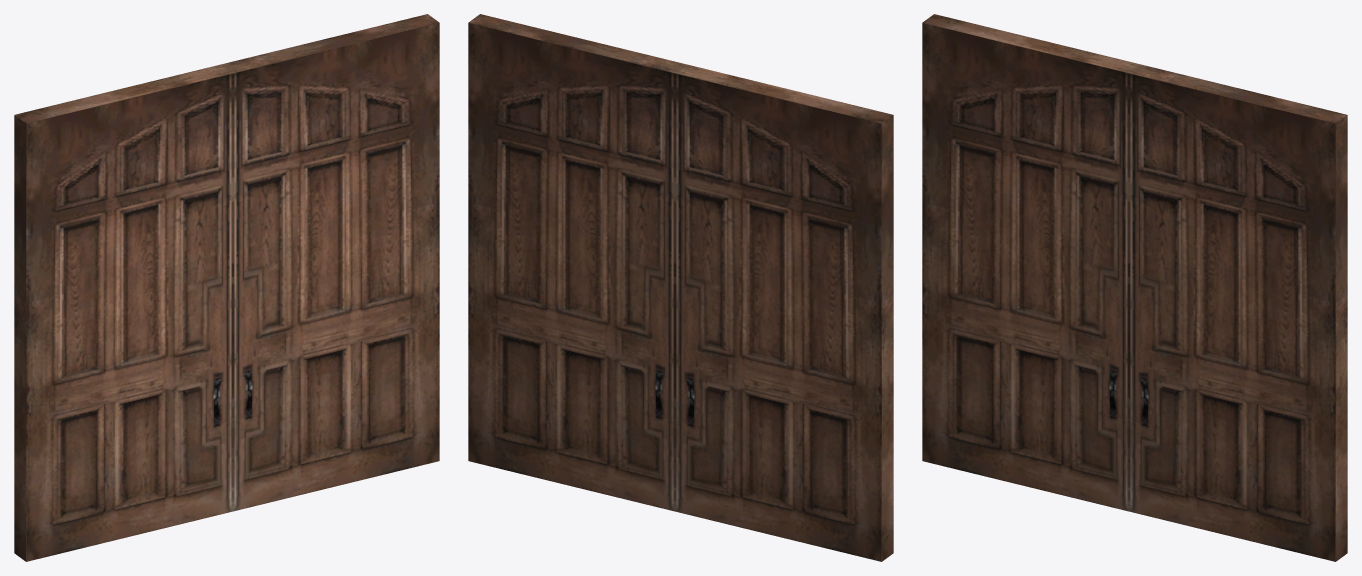
Rendered from door_nboo_filler_s04.fbx.
The picture shows the model from 3 angles, left to right: view 1: azimuth 30°, elevation 25°; view 2: azimuth 150°, elevation 25°; view 3: azimuth 330°, elevation 25°; orthographic projection.
Visible parts, largest first — view 1: mesh_node; view 2: mesh_node; view 3: mesh_node.
Boxes of the visible parts, x1,y1,x2,y2 form: mesh_node: (14,14,439,561); mesh_node: (468,14,893,561); mesh_node: (922,14,1347,561).
Bounding box in the file's own units: 2.82 × 2.86 × 0.1414.
1 material, 1 textured.
